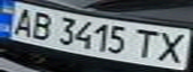1: (90, 20, 112, 53)
3: (51, 15, 78, 47)
4: (72, 19, 93, 51)
5: (106, 22, 133, 56)
A: (3, 4, 39, 37)
B: (24, 9, 57, 42)
T: (130, 26, 163, 60)
X: (151, 29, 193, 64)
